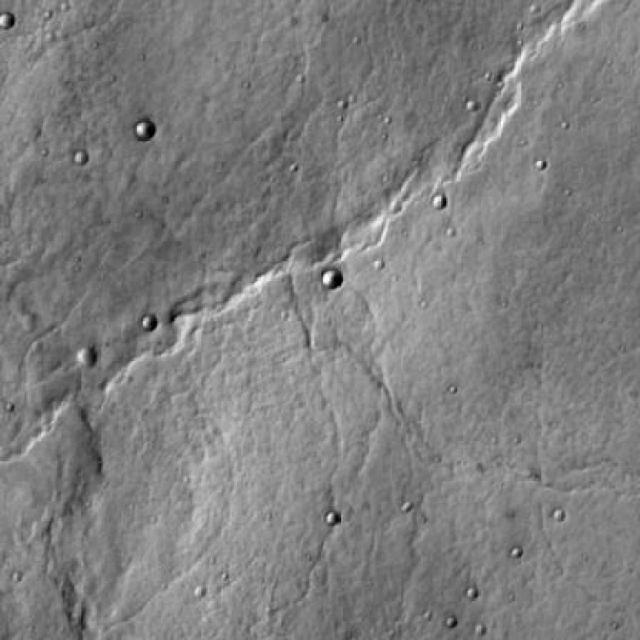crater: (136, 115, 158, 138), (321, 268, 341, 288), (74, 344, 94, 364)
